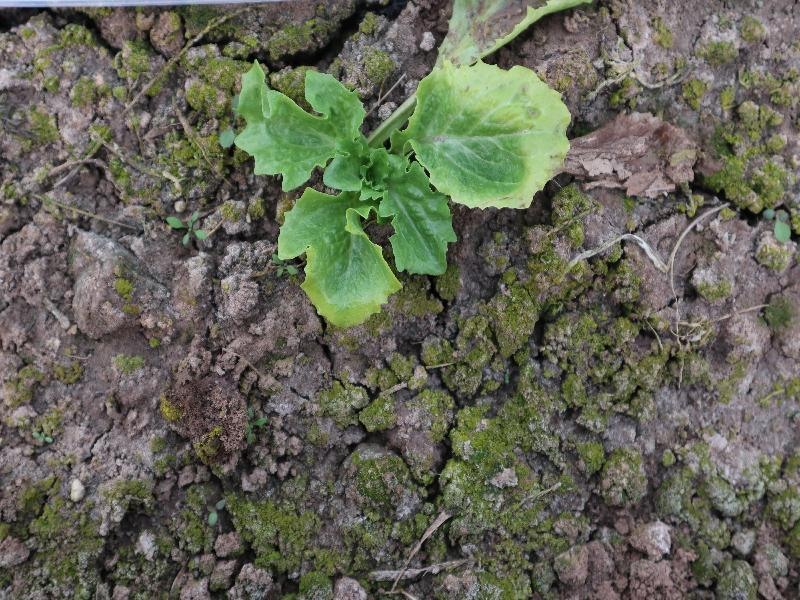lettuce: (233, 54, 572, 325)
